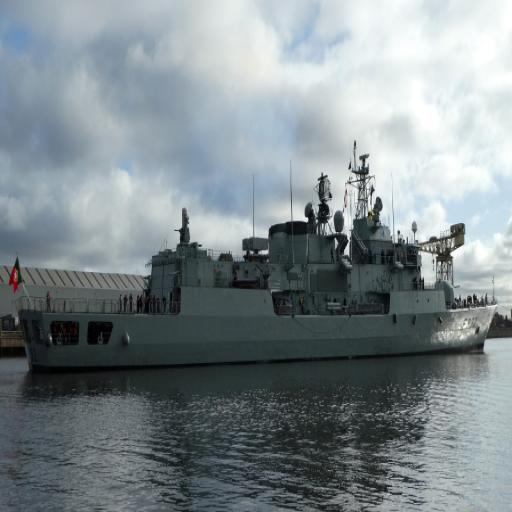Fragata: (15, 117, 503, 378)
